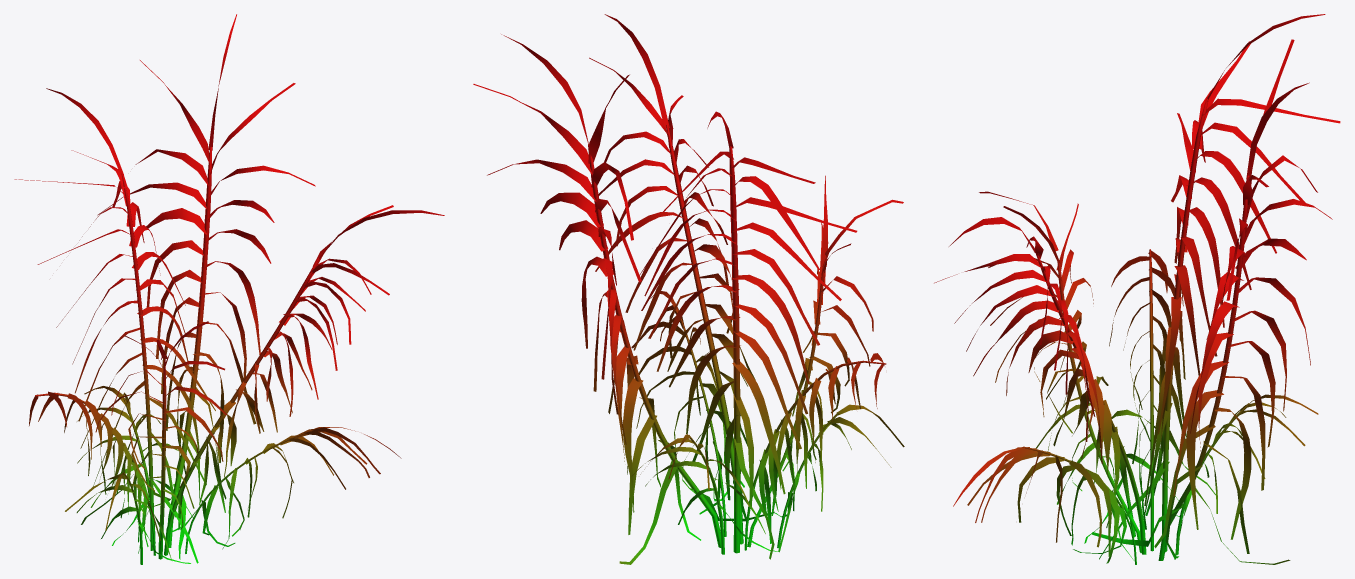
The model's file is Giant Reed_LOD1_Var1_sjllX.fbx.
3 renders of one model, left to right at view 1: azimuth 30°, elevation 25°; view 2: azimuth 150°, elevation 25°; view 3: azimuth 270°, elevation 25°, orthographic. The views are drawn at different scales.
Parts seen in each view (by area): view 1: _49a6_Var1_LOD1; view 2: _49a6_Var1_LOD1; view 3: _49a6_Var1_LOD1.
Part boxes in pixels (left/top/right/bottom): _49a6_Var1_LOD1: left=14, top=14, right=444, bottom=564; _49a6_Var1_LOD1: left=473, top=14, right=904, bottom=564; _49a6_Var1_LOD1: left=934, top=14, right=1340, bottom=564.
Size of the model in its own units: 191 by 256 by 170.
